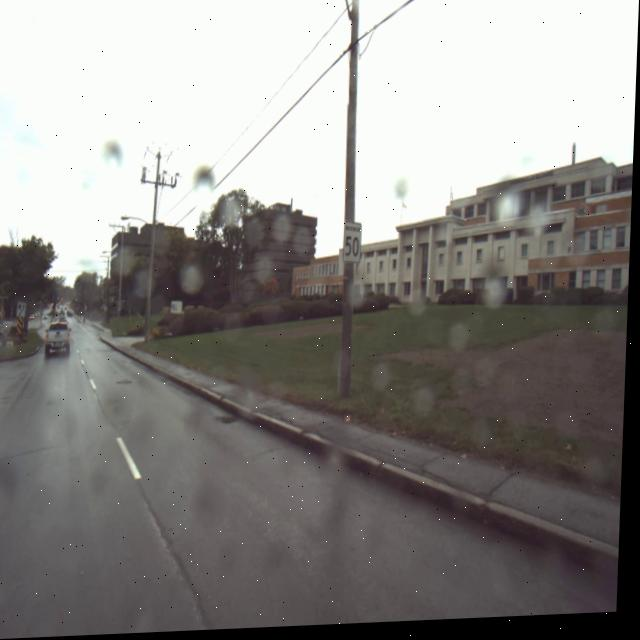car: (46, 322, 74, 361), (0, 320, 3, 341)
